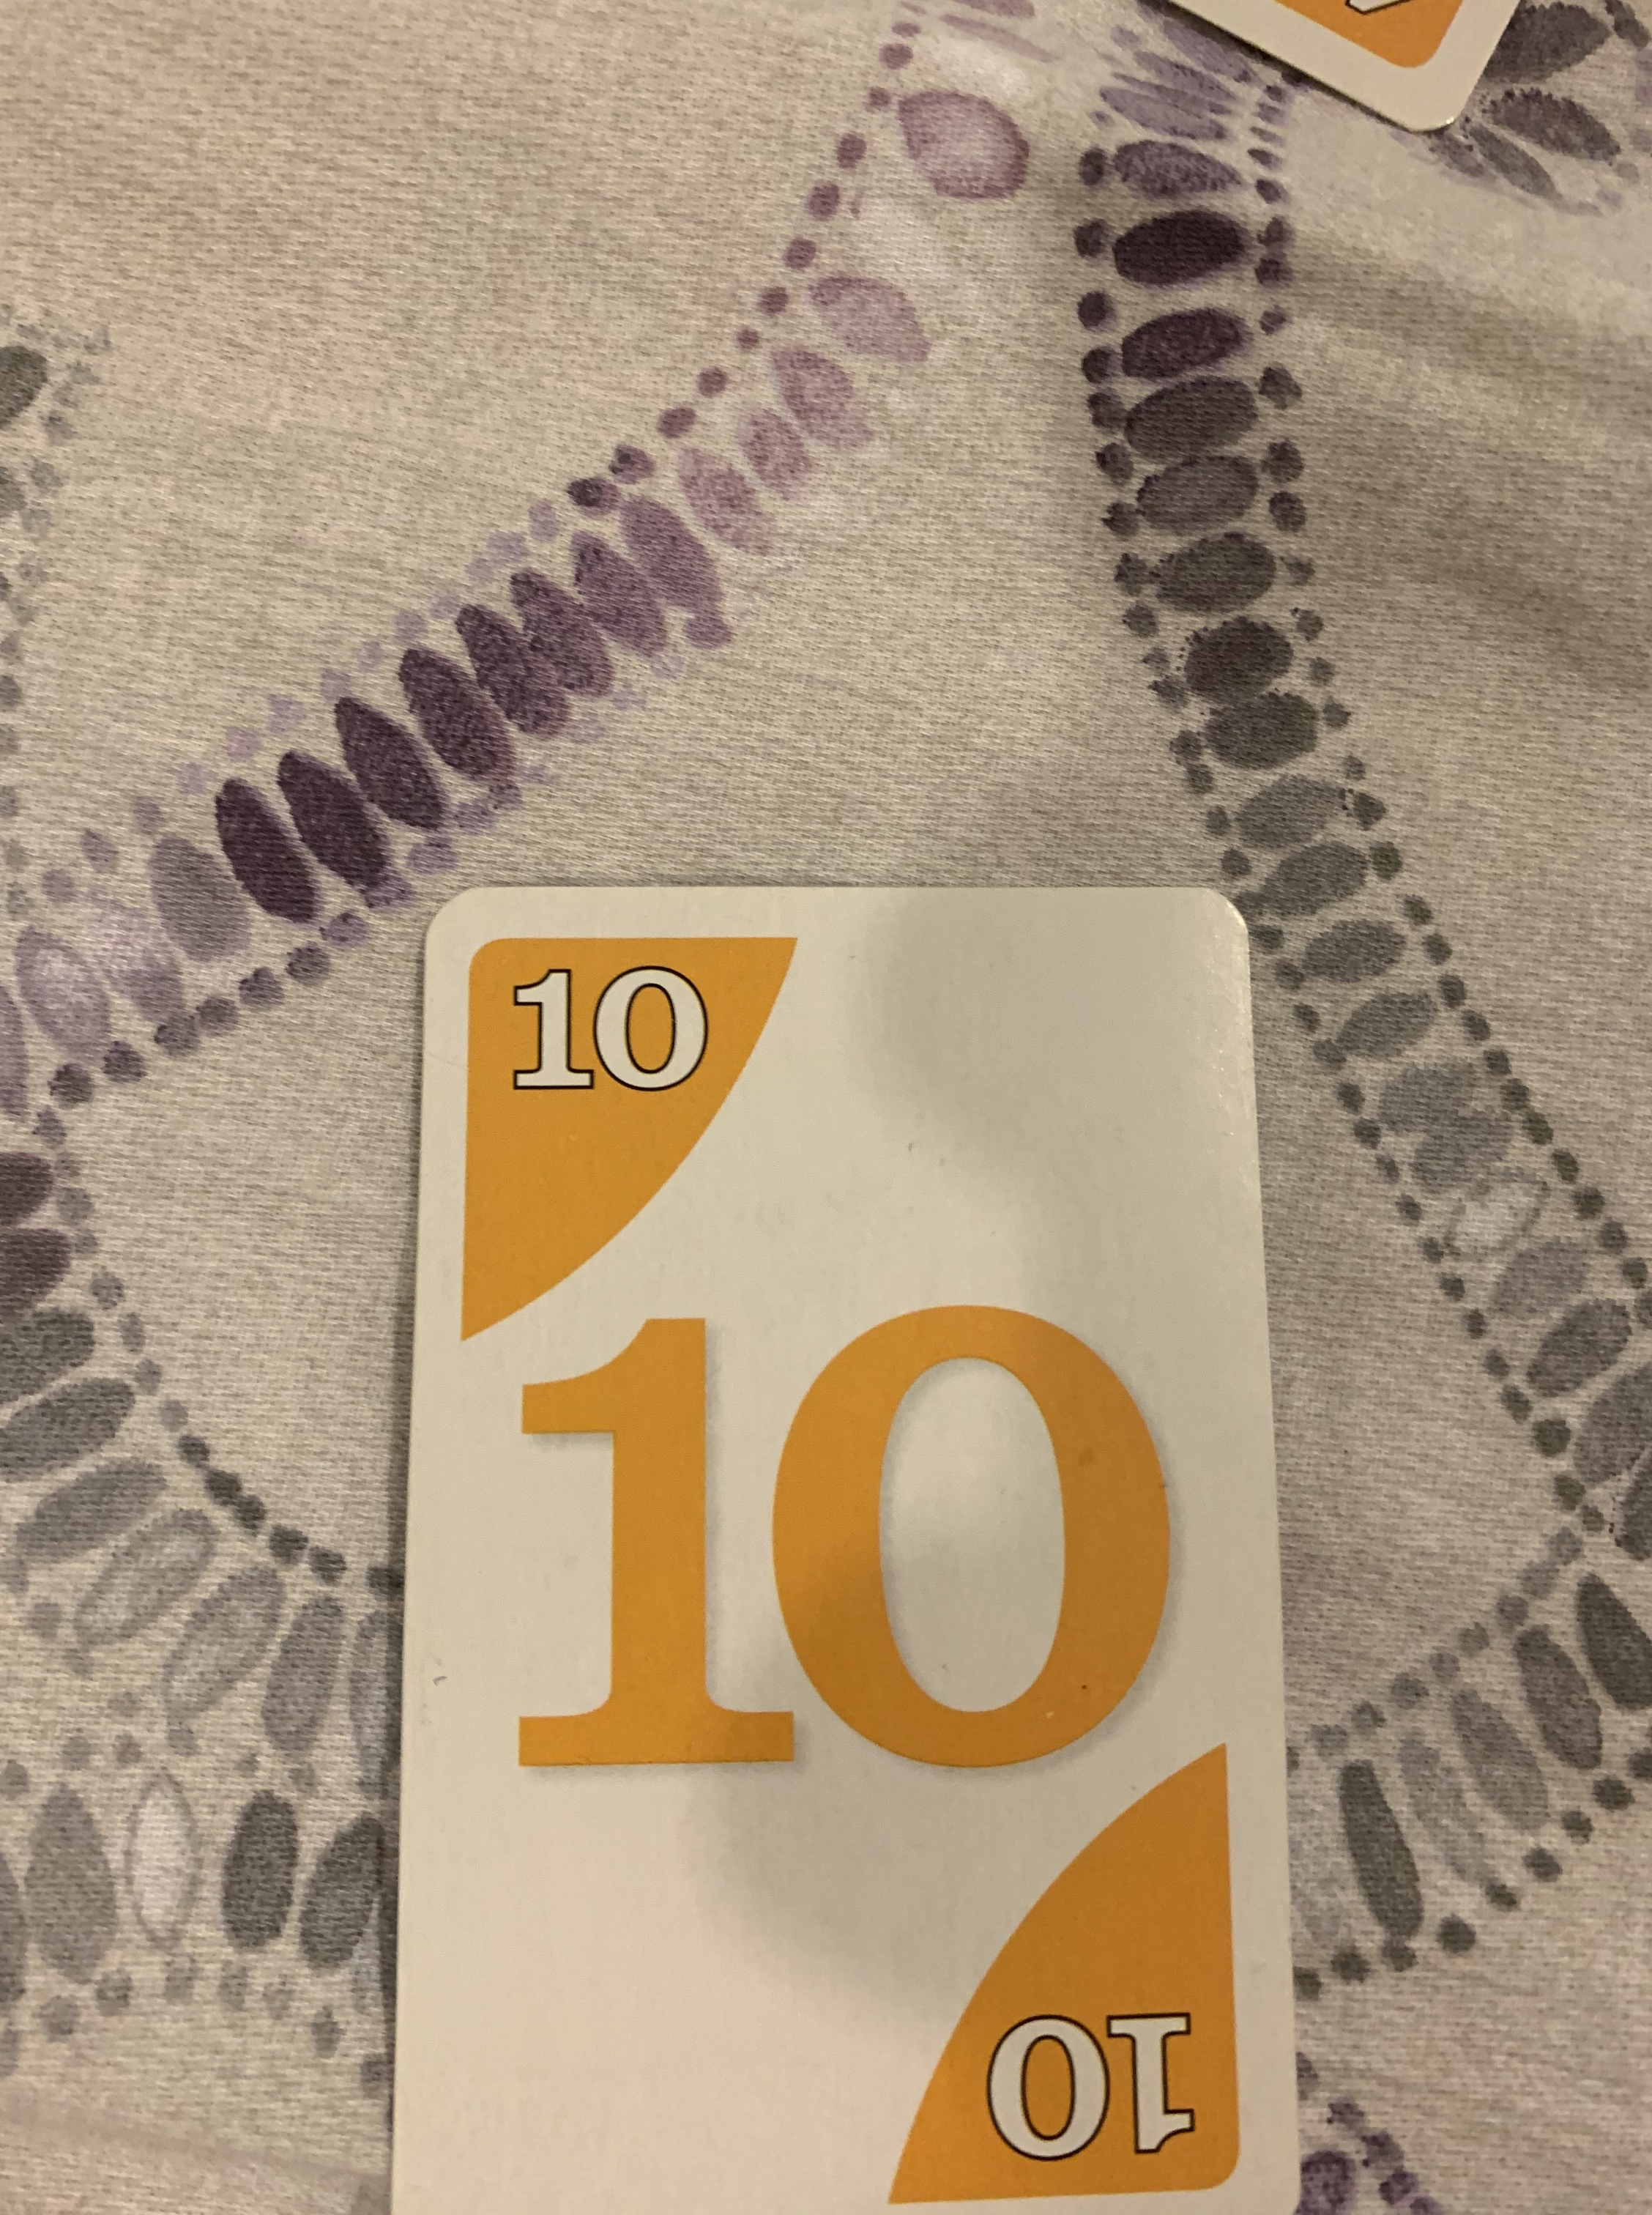ten: (378, 880, 1315, 2215)
